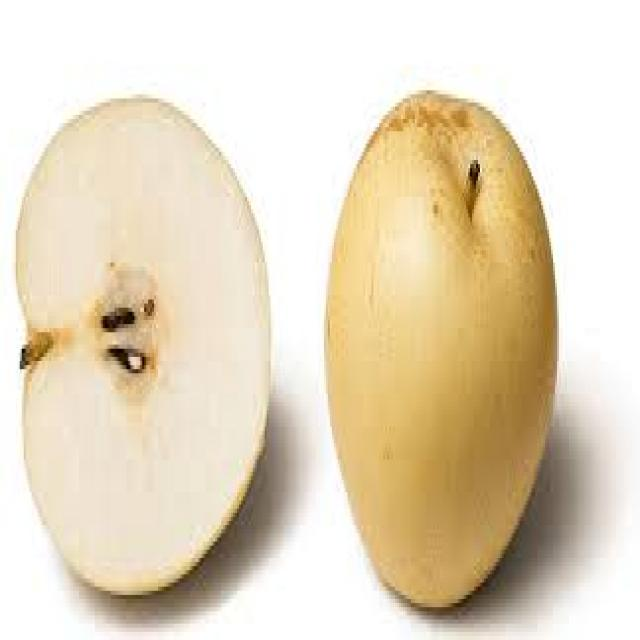pear: (320, 66, 593, 636)
